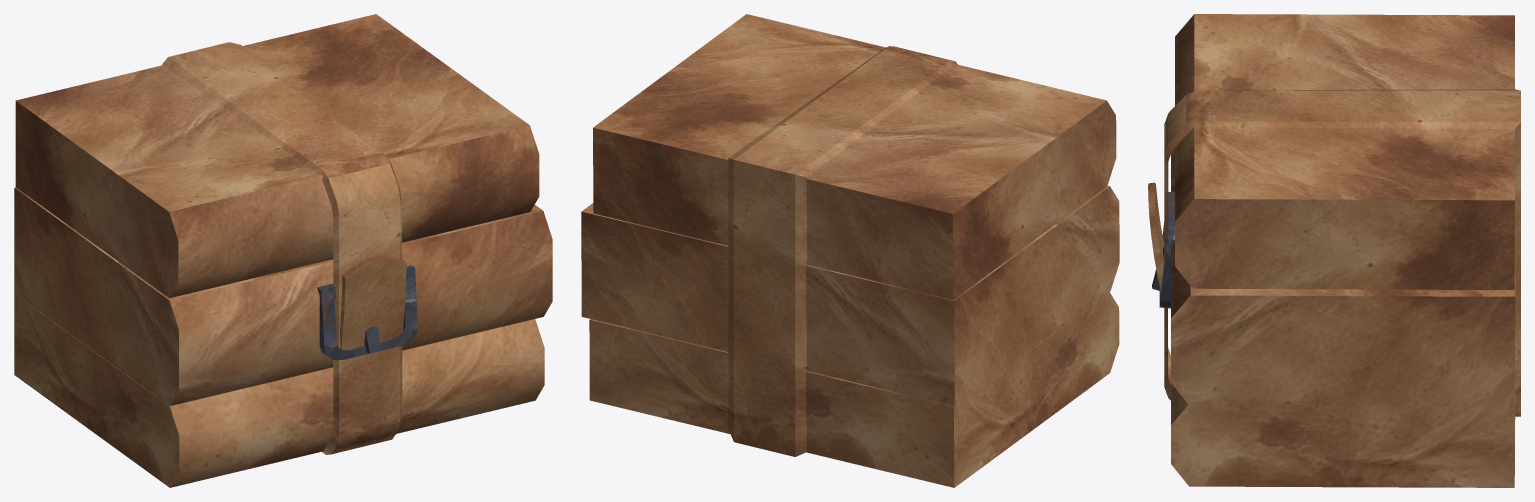
File: tr_books_stack_2.glb
3 views of the same model, side by side, from view 1: azimuth 30°, elevation 25°; view 2: azimuth 150°, elevation 25°; view 3: azimuth 270°, elevation 25° (orthographic). The views are drawn at different scales.
Parts seen in each view (by area): view 1: model; view 2: model; view 3: model.
Part boxes in pixels (box(x1,y1,x2,y2)): model: box(14, 14, 552, 487); model: box(581, 14, 1119, 487); model: box(1148, 14, 1520, 487).
Size of the model in its own units: 0.2745 by 0.1984 by 0.2273.
2 materials, 2 textured.
